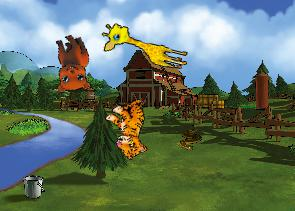bear: (41, 30, 98, 98)
giraffe: (98, 20, 192, 71)
tiger: (98, 93, 164, 162)
